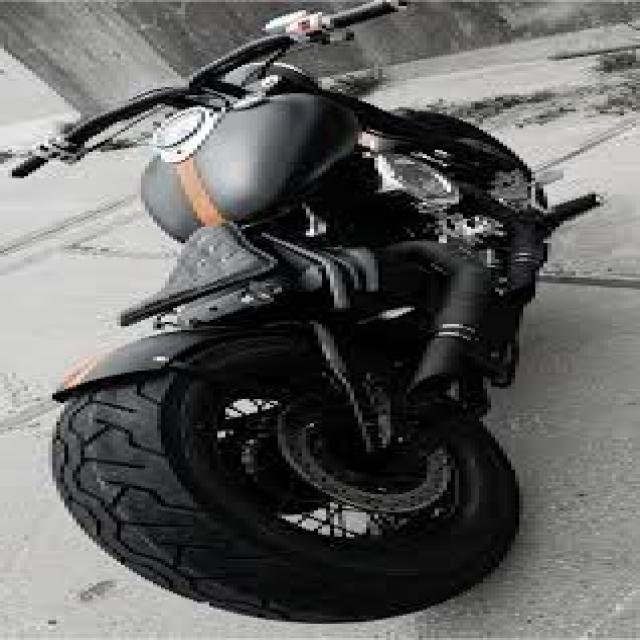Bike: (8, 0, 608, 626)
